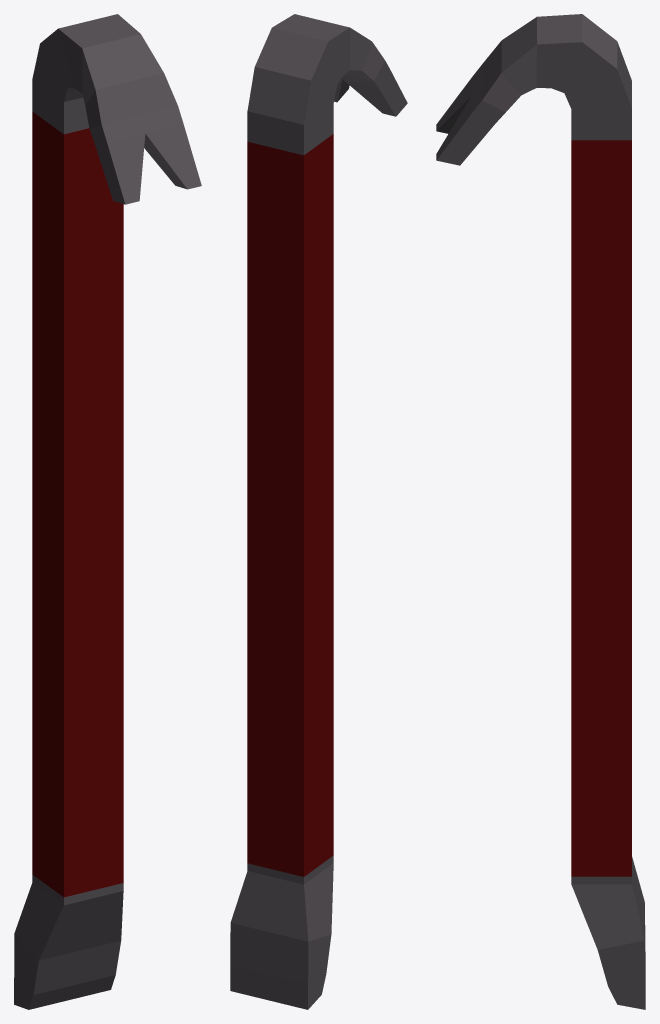
Rendered from crowbar.fbx.
3 renders of one model, left to right at view 1: azimuth 30°, elevation 25°; view 2: azimuth 150°, elevation 25°; view 3: azimuth 270°, elevation 25°, orthographic. The views are drawn at different scales.
Parts seen in each view (by area): view 1: crowbar; view 2: crowbar; view 3: crowbar.
Boxes of the visible parts, <box> form: crowbar: <box>14,14,201,1009</box>; crowbar: <box>230,14,407,1009</box>; crowbar: <box>436,14,645,1009</box>.
Size of the model in its own units: 15.79 by 183 by 36.02.
